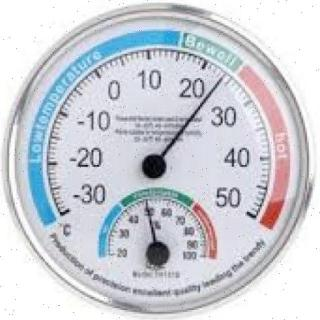gauge: (0, 0, 320, 320), (90, 185, 226, 287), (240, 202, 279, 242), (45, 194, 82, 230), (141, 152, 167, 180), (144, 240, 170, 268), (96, 244, 126, 266), (190, 250, 220, 268), (214, 70, 230, 88), (141, 197, 153, 209)
